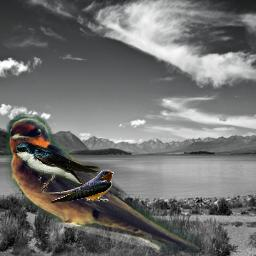Swallow: (6, 114, 201, 253), (12, 141, 103, 195), (35, 169, 114, 203)
